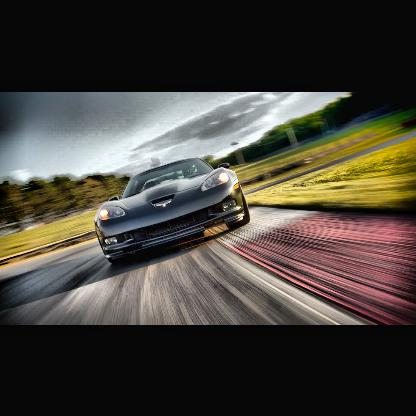Chevrolet Corvette ZR1 2012: (93, 156, 253, 271)
